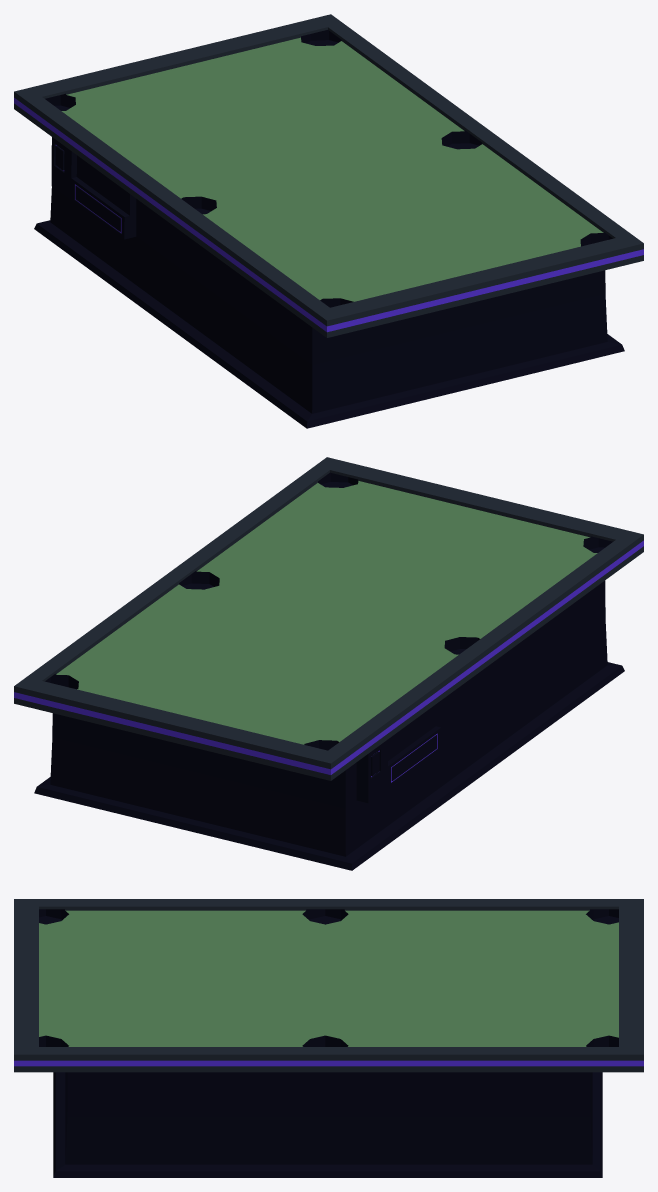
File: Fader_PoolTable.fbx
3 renders of one model, top to bottom at view 1: azimuth 30°, elevation 25°; view 2: azimuth 150°, elevation 25°; view 3: azimuth 270°, elevation 25°, orthographic.
Visible parts, largest first — view 1: Cube.002; view 2: Cube.002; view 3: Cube.002.
Part boxes in pixels (x1=…): Cube.002: x1=14, y1=14, x2=643, y2=428; Cube.002: x1=14, y1=457, x2=643, y2=870; Cube.002: x1=14, y1=899, x2=643, y2=1177.
Bounding box in the file's own units: 163 × 59.96 × 278.
